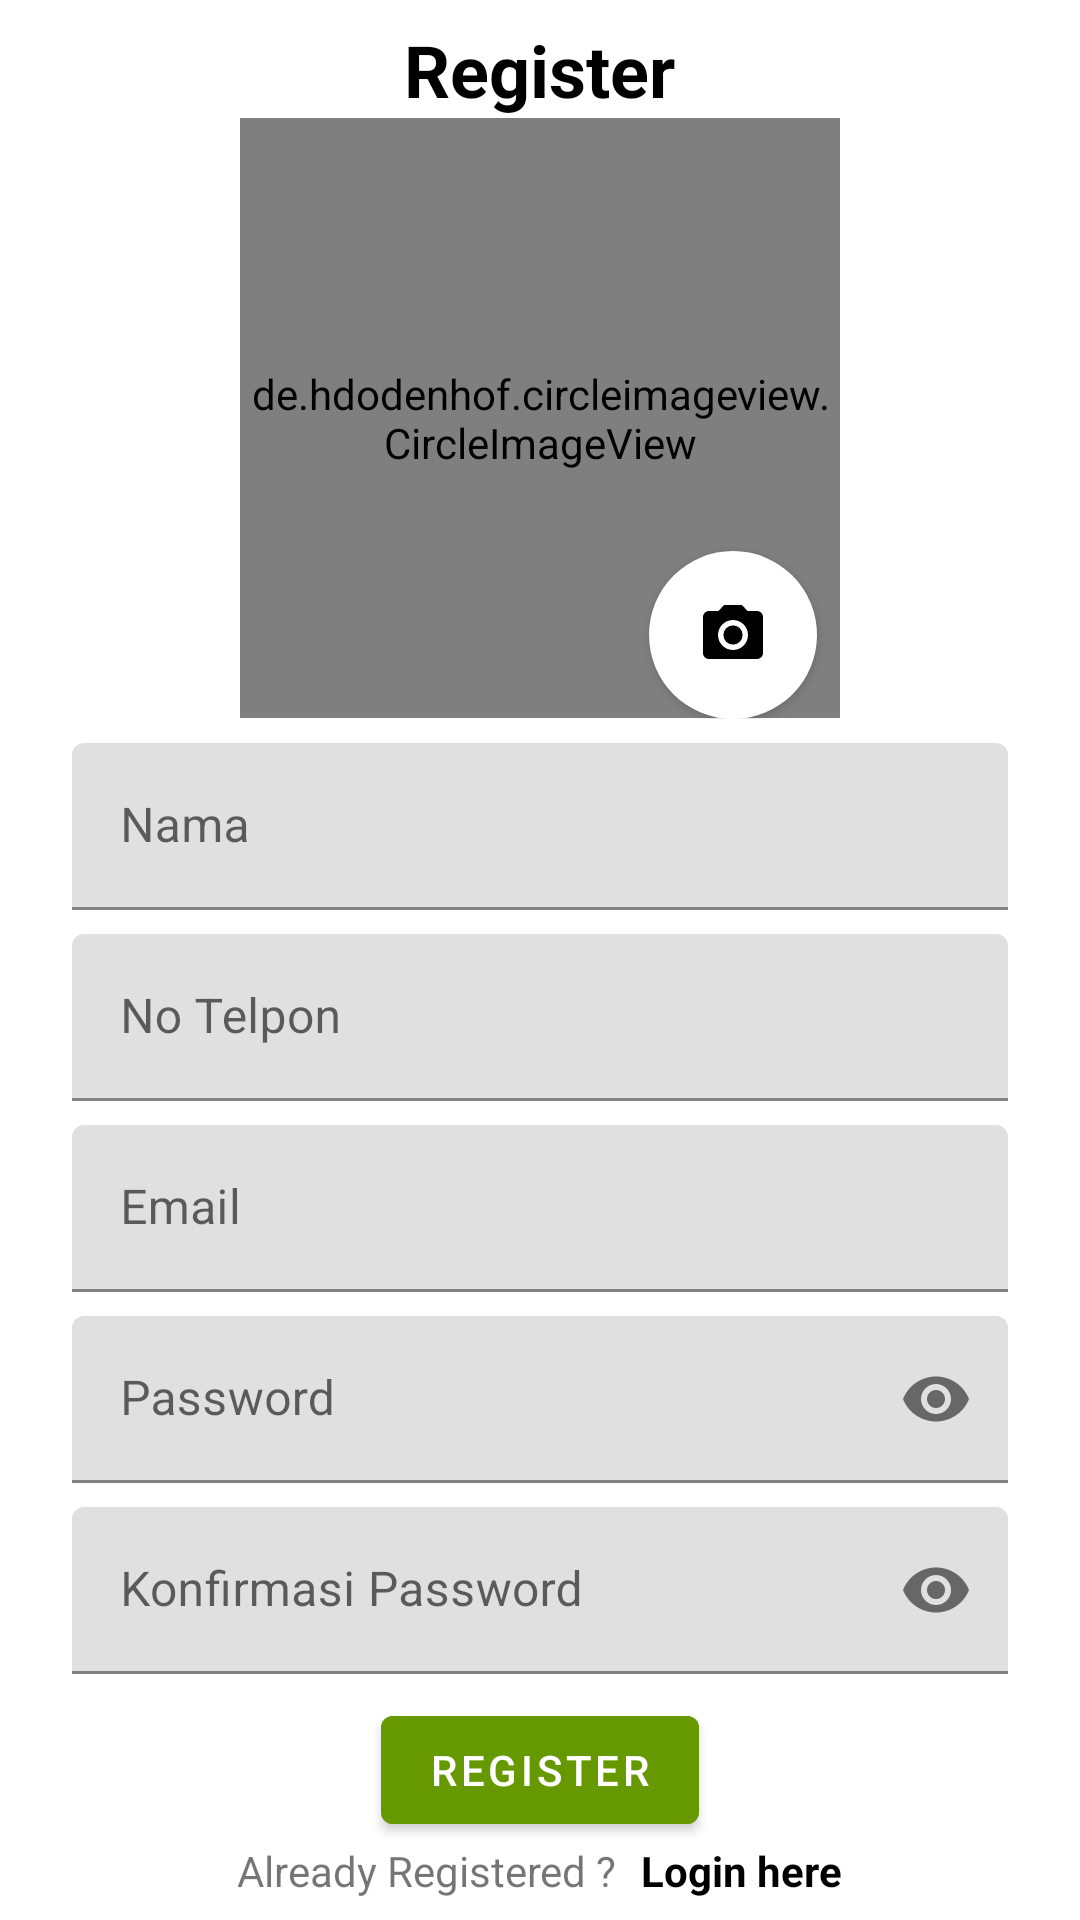

Icons on this 1080x1920 Android screen, each with the point to tap as (x,y):
Upload Image: (733,635)
